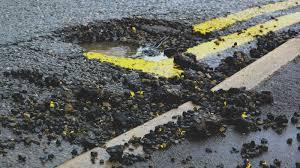pothole: (55, 15, 212, 69)
